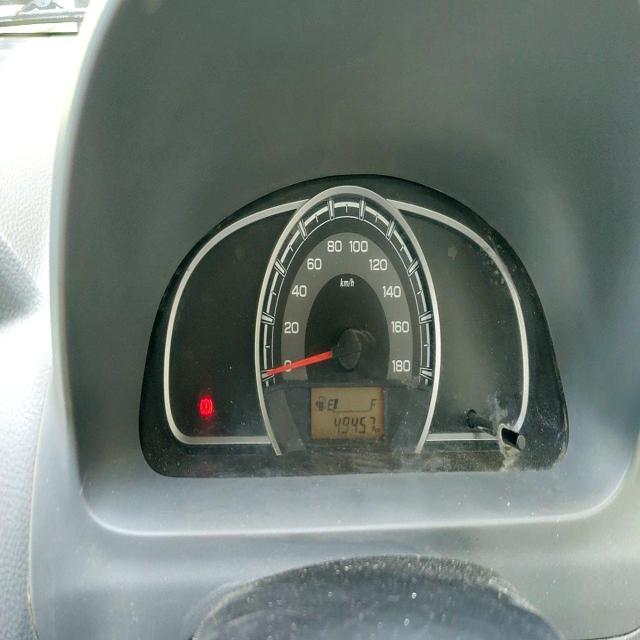odometer: (332, 412, 377, 440)
